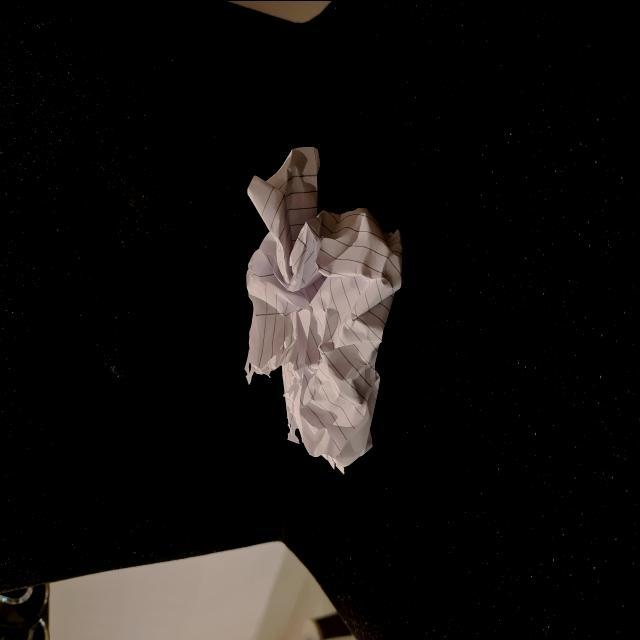Paper: (220, 144, 409, 494)
